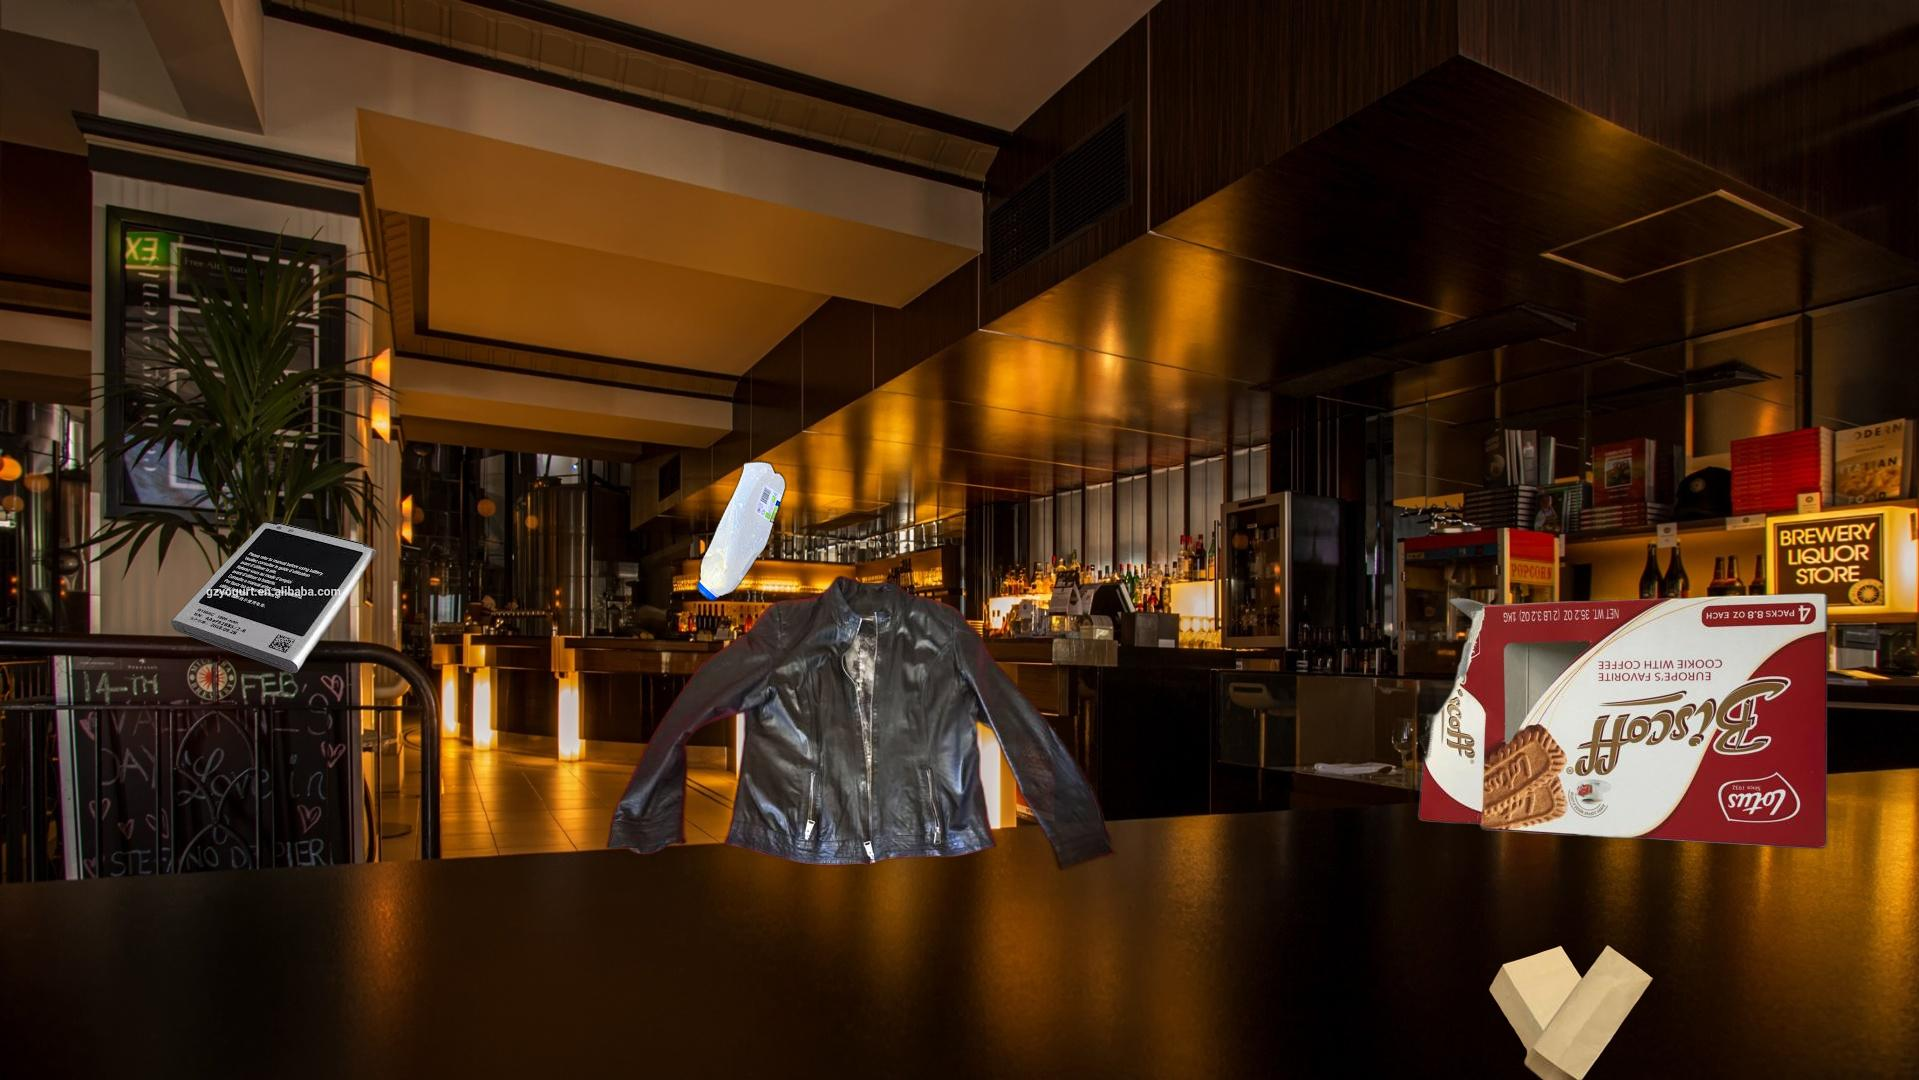battery: (169, 518, 381, 676)
biological: (1452, 76, 1712, 272)
clothes: (601, 572, 1124, 914)
paper: (1414, 589, 1832, 851)
paper-bag: (1487, 942, 1655, 1080)
plastic-bottles: (692, 46, 990, 608)
